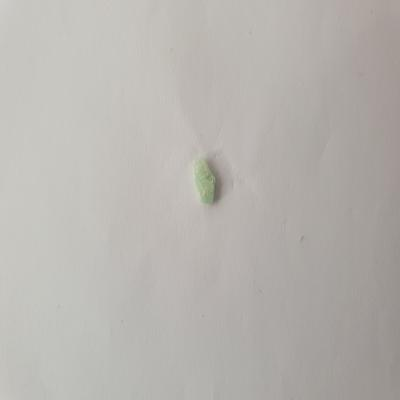plastic: (190, 154, 227, 210)
